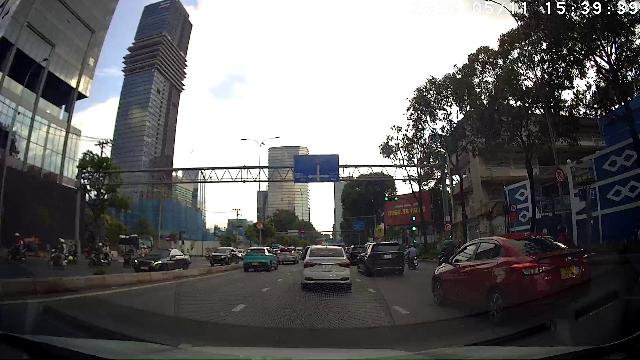103b-cam-oto-re-phai: (555, 168, 565, 184)
